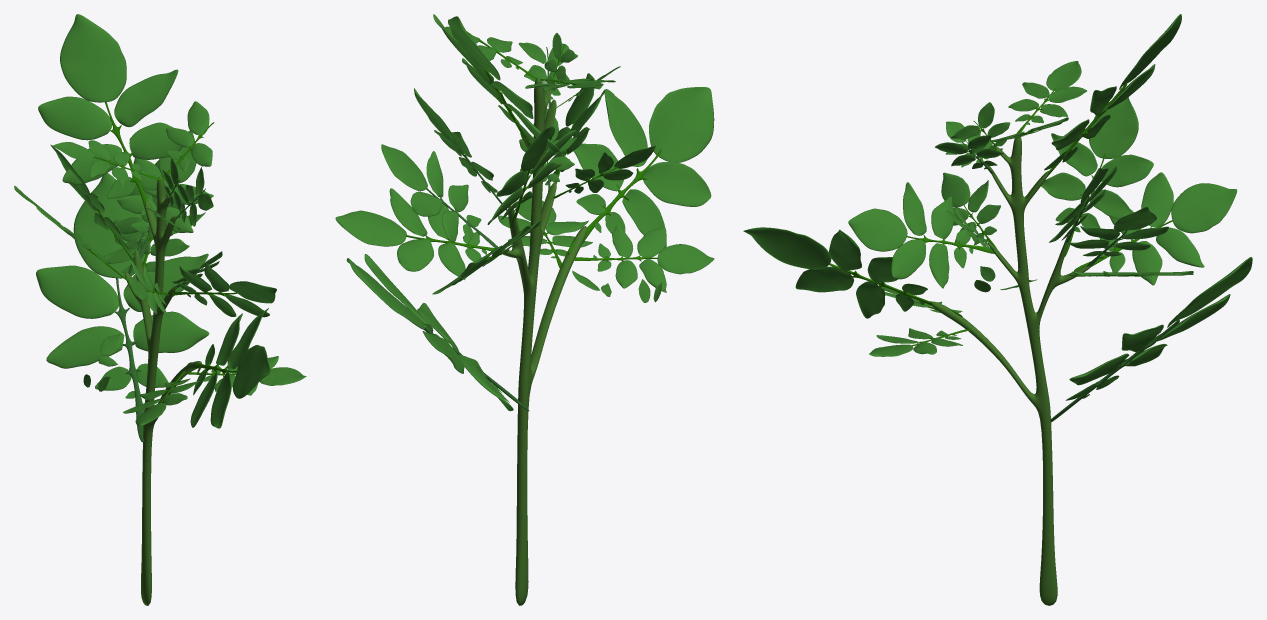
Rendered from potato_5.glb.
The picture shows the model from 3 angles, left to right: view 1: azimuth 30°, elevation 25°; view 2: azimuth 150°, elevation 25°; view 3: azimuth 270°, elevation 25°; orthographic projection. The views are drawn at different scales.
Visible parts, largest first — view 1: Plane, Plane.137, Plane.236, Plane.001, Plane.029, Plane.238, Plane.239, Plane.139, Plane.237, Plane.010, Plane.032, Plane.243 (+15 smaller); view 2: Plane, Plane.010, Plane.003, Plane.012, Plane.073, Plane.002, Plane.019, Plane.262, Plane.013, Plane.011, Plane.001, Plane.074 (+14 smaller); view 3: Plane, Plane.109, Plane.173, Plane.055, Plane.010, Plane.011, Plane.002, Plane.001, Plane.065, Plane.220, Plane.056, Plane.012 (+12 smaller).
Boxes of the visible parts, x1=… form: Plane: x1=124, y1=176, x2=201, y2=605; Plane.137: x1=60, y1=14, x2=126, y2=102; Plane.236: x1=36, y1=265, x2=119, y2=318; Plane.001: x1=73, y1=173, x2=149, y2=278; Plane.029: x1=38, y1=96, x2=112, y2=140; Plane.238: x1=46, y1=326, x2=124, y2=368; Plane.239: x1=133, y1=311, x2=209, y2=352; Plane.139: x1=114, y1=71, x2=178, y2=127; Plane.237: x1=123, y1=253, x2=208, y2=311; Plane.010: x1=233, y1=345, x2=270, y2=398; Plane.032: x1=129, y1=125, x2=193, y2=159; Plane.243: x1=114, y1=278, x2=144, y2=442; Plane: x1=503, y1=77, x2=586, y2=605; Plane.010: x1=649, y1=87, x2=713, y2=162; Plane.003: x1=643, y1=162, x2=711, y2=206; Plane.012: x1=604, y1=89, x2=647, y2=166; Plane.073: x1=335, y1=210, x2=406, y2=246; Plane.002: x1=649, y1=87, x2=714, y2=162; Plane.019: x1=657, y1=244, x2=714, y2=274; Plane.262: x1=381, y1=144, x2=427, y2=191; Plane.013: x1=622, y1=189, x2=666, y2=247; Plane.011: x1=643, y1=162, x2=710, y2=205; Plane.001: x1=346, y1=258, x2=424, y2=329; Plane.074: x1=397, y1=239, x2=433, y2=271; Plane: x1=931, y1=137, x2=1091, y2=605; Plane.109: x1=1171, y1=183, x2=1236, y2=233; Plane.173: x1=1089, y1=97, x2=1138, y2=158; Plane.055: x1=848, y1=208, x2=907, y2=251; Plane.010: x1=744, y1=227, x2=831, y2=269; Plane.011: x1=795, y1=266, x2=853, y2=292; Plane.002: x1=743, y1=228, x2=824, y2=262; Plane.001: x1=1167, y1=257, x2=1252, y2=327; Plane.065: x1=1101, y1=155, x2=1153, y2=187; Plane.220: x1=1156, y1=227, x2=1204, y2=267; Plane.056: x1=891, y1=239, x2=925, y2=279; Plane.012: x1=829, y1=229, x2=861, y2=271.
Bounding box in the file's own units: 0.8635 × 2.44 × 1.91.
